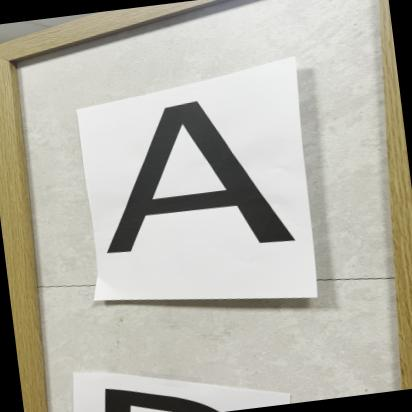seat: (91, 74, 332, 280)
